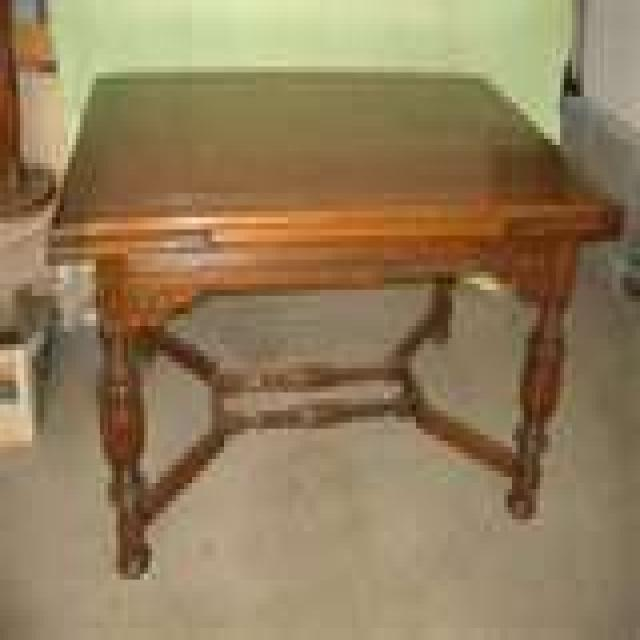table: (42, 71, 625, 587)
